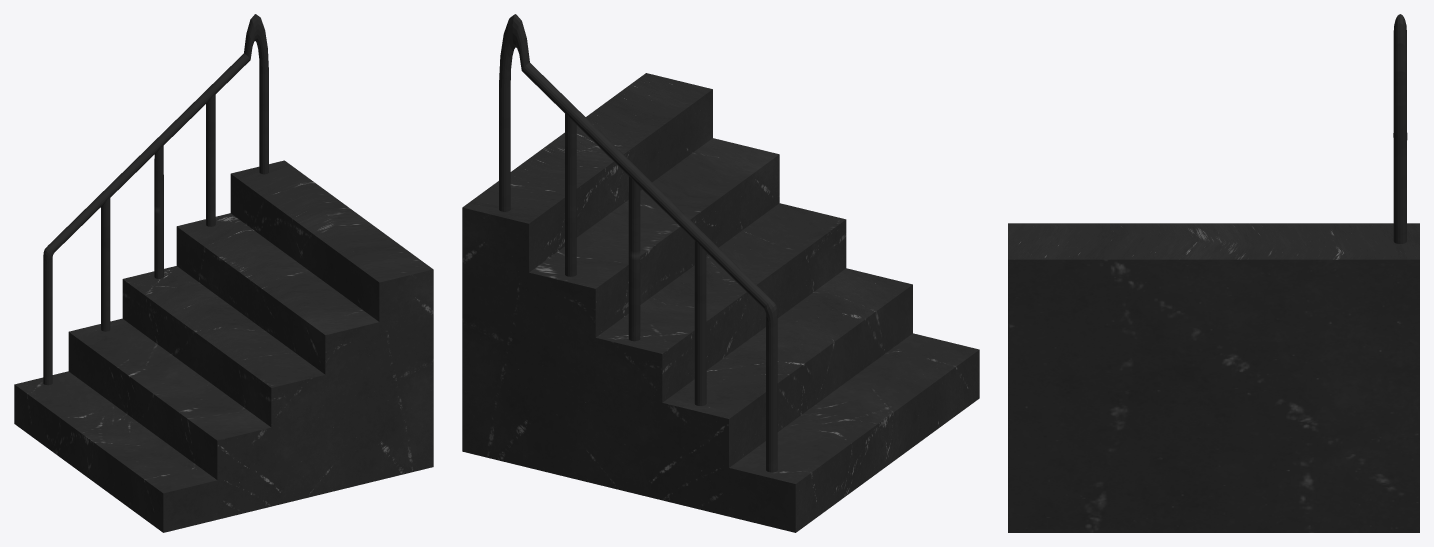
File: scalette.fbx
3 renders of one model, left to right at view 1: azimuth 30°, elevation 25°; view 2: azimuth 150°, elevation 25°; view 3: azimuth 270°, elevation 25°, orthographic. The views are drawn at different scales.
Visible parts, largest first — view 1: Cube.003; view 2: Cube.003; view 3: Cube.003.
Boxes of the visible parts, x1,y1,x2,y2 form: Cube.003: (14, 14, 433, 532); Cube.003: (462, 14, 979, 532); Cube.003: (1008, 14, 1419, 532).
Size of the model in its own units: 1617 by 2047 by 1544.
Materials: 1 (1 with a texture image).
